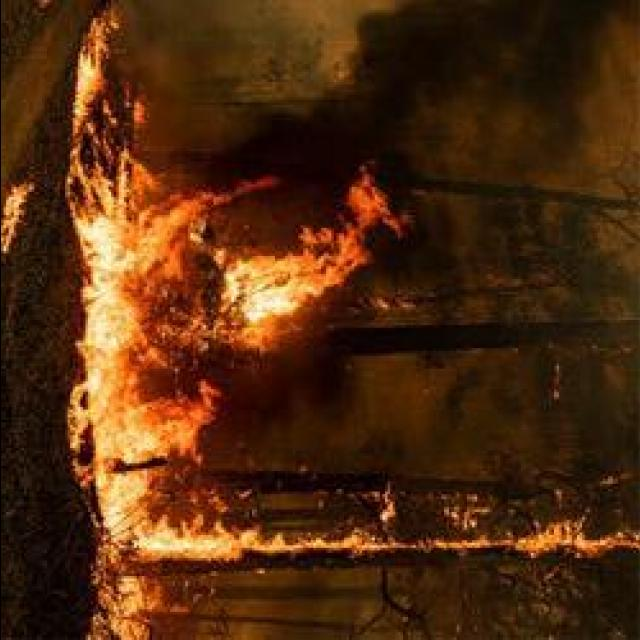fire: (82, 232, 138, 352), (94, 396, 192, 461), (232, 254, 326, 320), (98, 466, 148, 538), (138, 530, 242, 562), (140, 204, 181, 277)
smoke: (334, 2, 638, 156), (196, 86, 367, 176), (222, 362, 362, 456), (376, 220, 478, 318)
